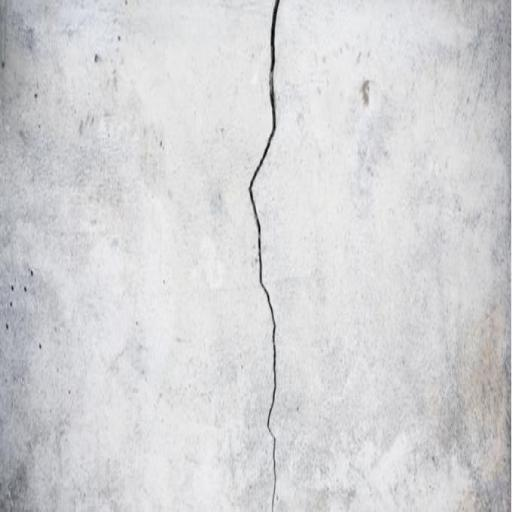spalling: (244, 1, 281, 506)
